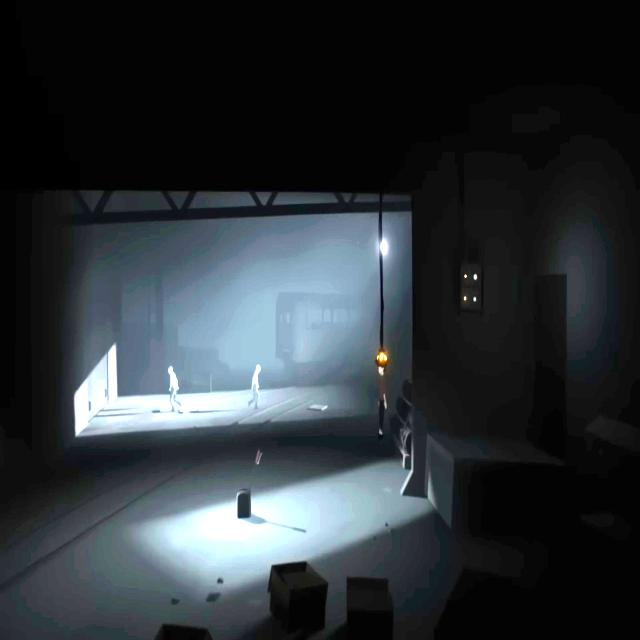boy: (378, 363, 388, 441)
